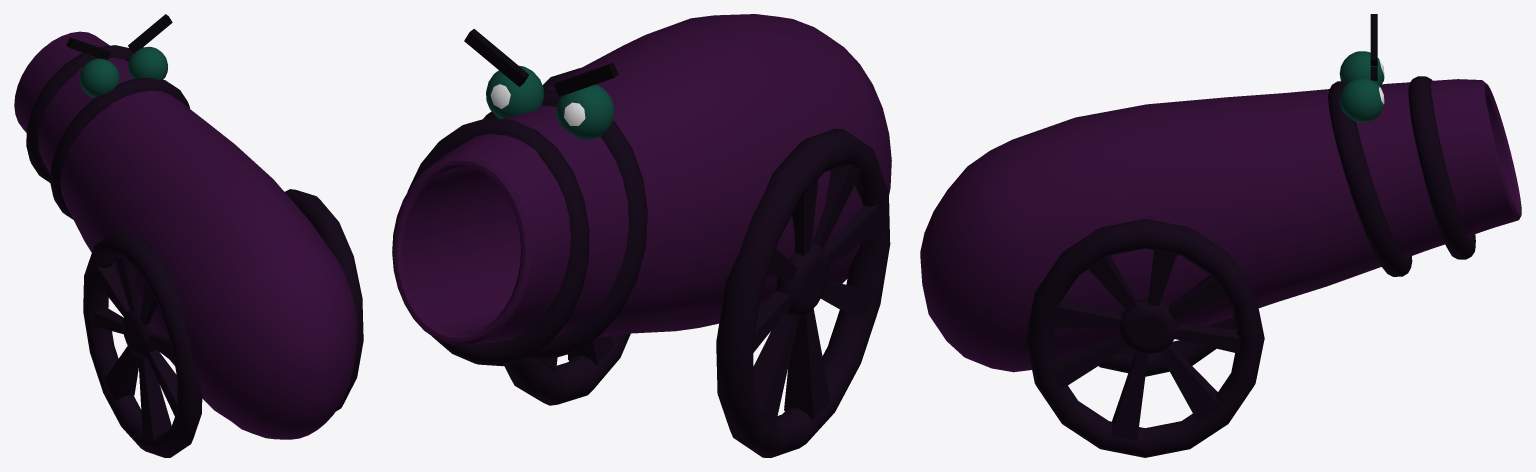
The model's file is cañon.FBX.
The picture shows the model from 3 angles, left to right: view 1: azimuth 30°, elevation 25°; view 2: azimuth 150°, elevation 25°; view 3: azimuth 270°, elevation 25°; orthographic projection. The views are drawn at different scales.
Visible parts, largest first — view 1: Sphere001, Torus005, Torus006, Torus001, Torus002, Sphere003, Sphere002, Box001, Box002; view 2: Sphere001, Torus005, Torus002, Torus001, Torus006, Sphere003, Sphere002, Box001, Box002; view 3: Sphere001, Torus006, Torus001, Torus002, Torus005, Sphere002, Sphere003.
Boxes of the visible parts, left/top/right/bottom form: Sphere001: left=14, top=31, right=357, bottom=439; Torus005: left=83, top=231, right=202, bottom=457; Torus006: left=285, top=189, right=363, bottom=411; Torus001: left=50, top=77, right=189, bottom=219; Torus002: left=26, top=45, right=133, bottom=182; Sphere003: left=79, top=58, right=119, bottom=97; Sphere002: left=128, top=46, right=167, bottom=79; Box001: left=128, top=14, right=172, bottom=53; Box002: left=66, top=37, right=110, bottom=59; Sphere001: left=392, top=14, right=891, bottom=345; Torus005: left=716, top=128, right=890, bottom=457; Torus002: left=407, top=118, right=589, bottom=366; Torus001: left=483, top=89, right=647, bottom=359; Torus006: left=504, top=68, right=630, bottom=405; Sphere003: left=556, top=84, right=614, bottom=140; Sphere002: left=486, top=65, right=543, bottom=119; Box001: left=464, top=29, right=529, bottom=86; Box002: left=553, top=63, right=618, bottom=96; Sphere001: left=920, top=79, right=1521, bottom=372; Torus006: left=1025, top=219, right=1264, bottom=457; Torus001: left=1328, top=81, right=1412, bottom=276; Torus002: left=1408, top=76, right=1475, bottom=259; Torus005: left=1098, top=317, right=1235, bottom=376; Sphere002: left=1339, top=77, right=1384, bottom=122; Sphere003: left=1339, top=51, right=1384, bottom=85.
Size of the model in its own units: 74.08 by 120 by 174.
